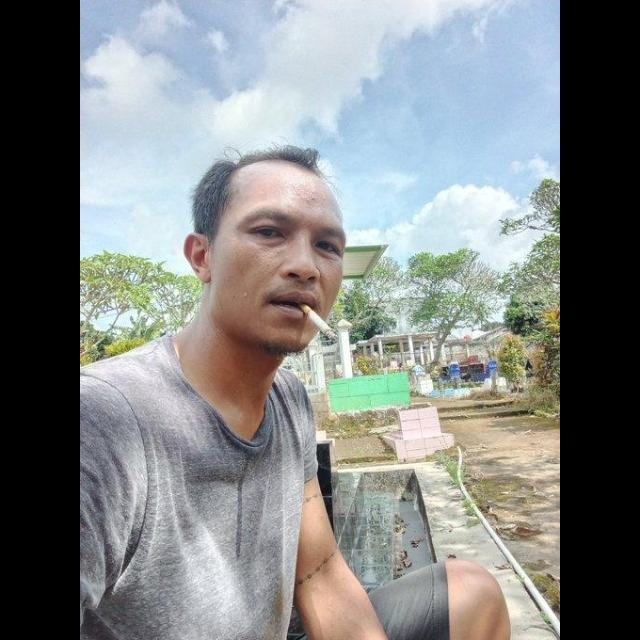rokok: (298, 294, 340, 346)
